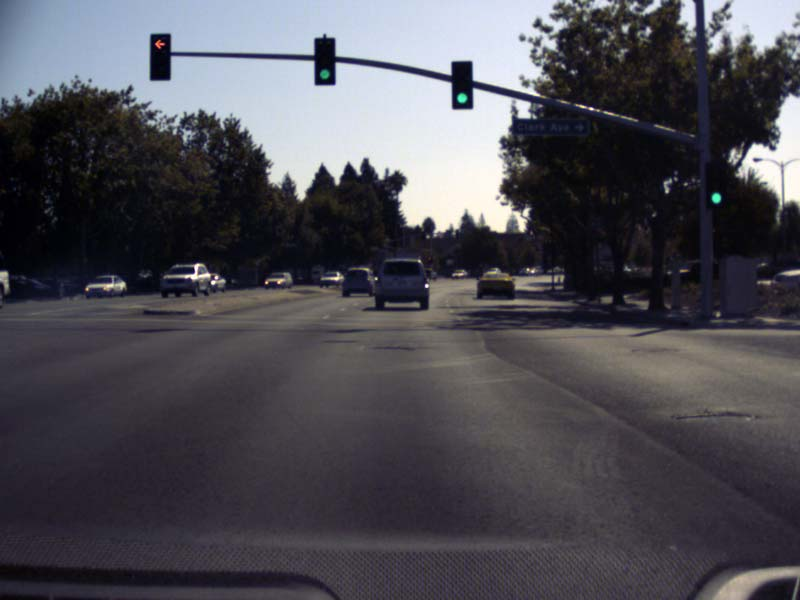Green: (451, 61, 472, 108), (315, 37, 335, 85), (705, 162, 725, 209)
Red: (150, 34, 170, 79)
